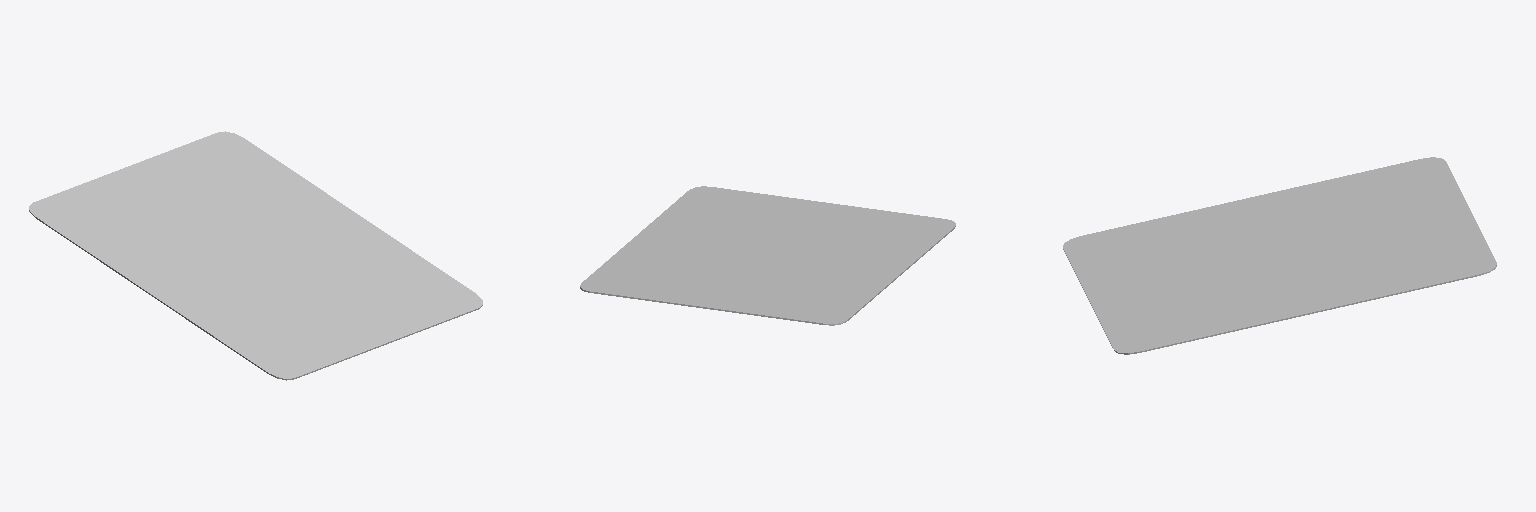
File: chandra_default0.obj
3 views of the same model, side by side, from view 1: azimuth 30°, elevation 25°; view 2: azimuth 150°, elevation 25°; view 3: azimuth 270°, elevation 25° (orthographic).
Parts seen in each view (by area): view 1: Chandra_Plane.004; view 2: Chandra_Plane.004; view 3: Chandra_Plane.004.
Boxes of the visible parts, x1,y1,x2,y2 form: Chandra_Plane.004: [29, 131, 482, 379]; Chandra_Plane.004: [580, 186, 955, 324]; Chandra_Plane.004: [1063, 157, 1496, 353].
Size of the model in its own units: 0.3713 by 0.0638 by 0.4656.